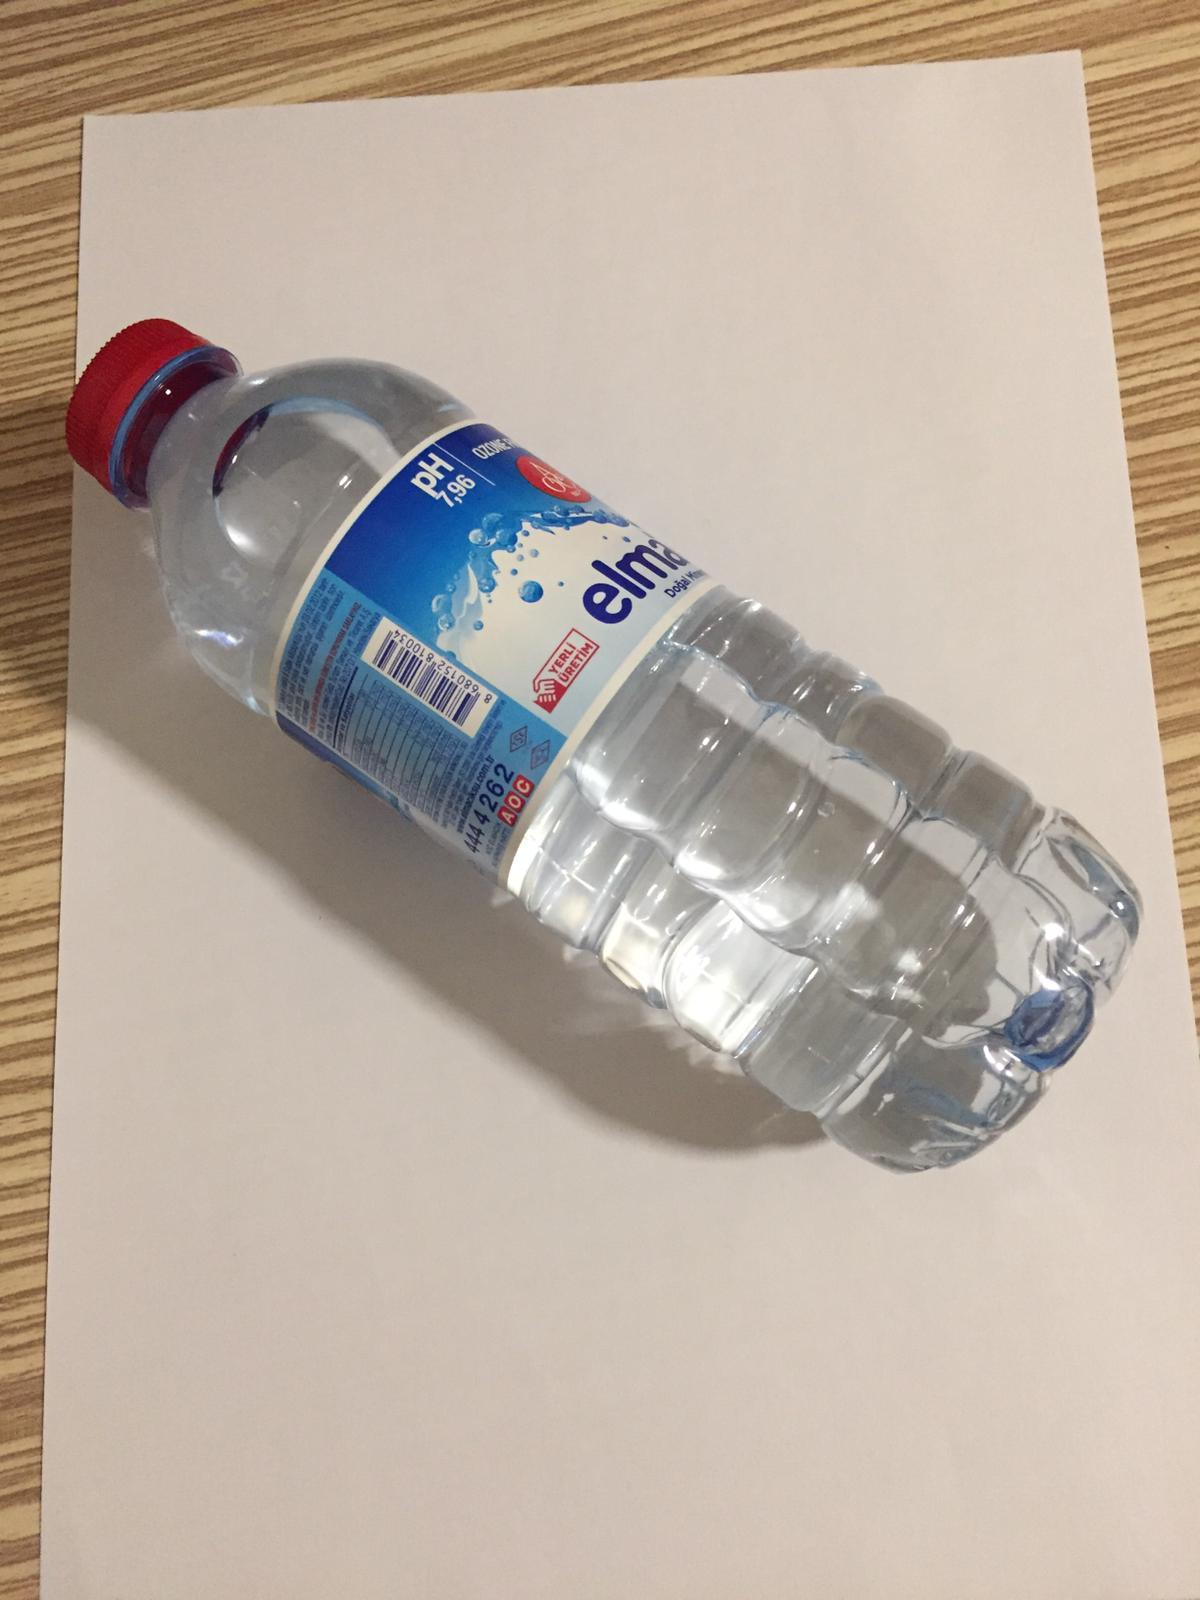bottle: (68, 307, 1146, 1174)
